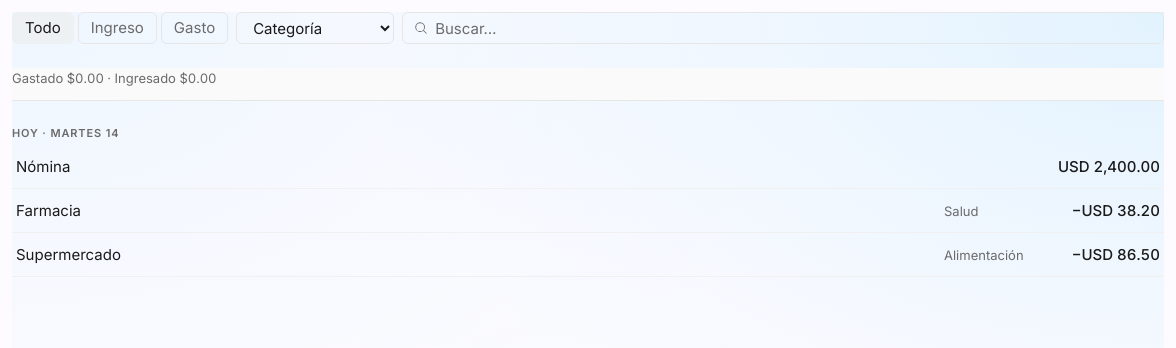
Scenario: Historial — filtros de categoría y tipo, aplican al instante y en combinación › filtro de tipo "Gasto" combinado con categoría "Alimentación" solo muestra ese gasto
Click the button "Gasto" at (194, 28), box [161,12,228,44]
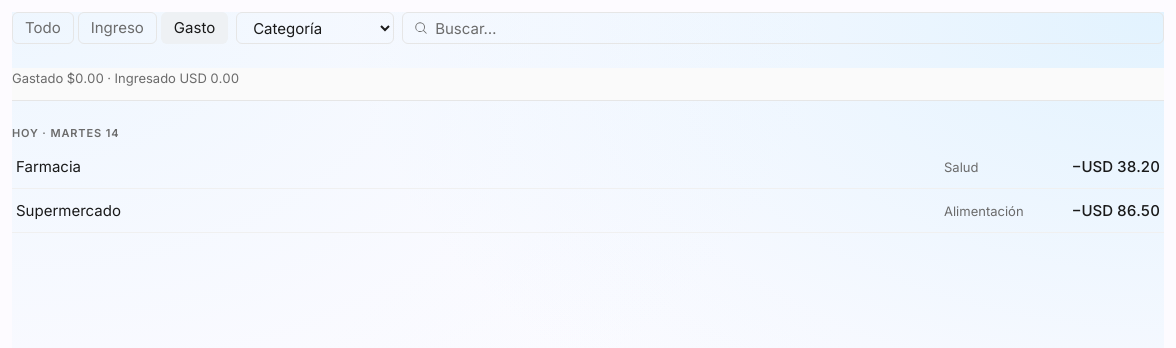
Select "Alimentación" in the dropdown named "categoría" at (315, 28), box [236,12,394,44]
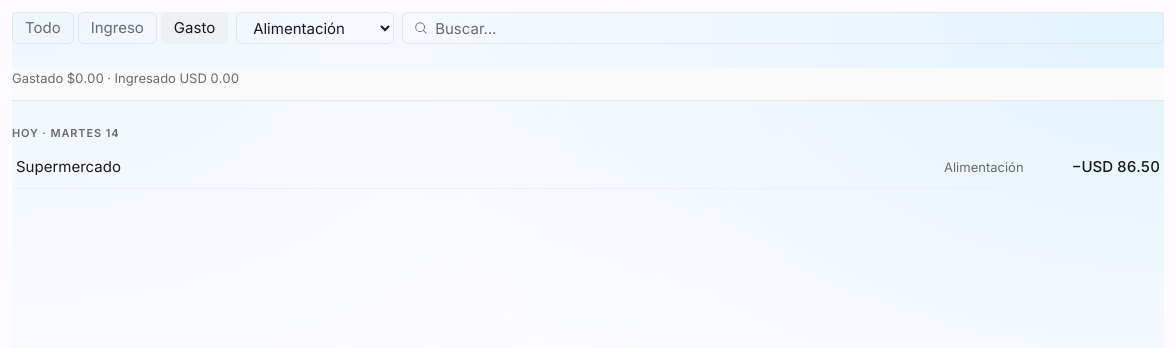
Expected: the text "Supermercado" is shown, [16,156,121,176]
Expected: the button "Farmacia" is gone
